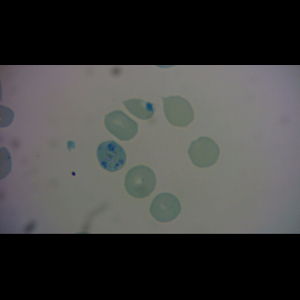aggregate reticulocyte: (96, 139, 128, 173)
erythrocyte: (103, 110, 140, 143), (161, 95, 196, 127), (187, 136, 221, 168), (149, 192, 182, 224), (122, 98, 157, 122)
punctate reticulocyte: (123, 164, 158, 199)
